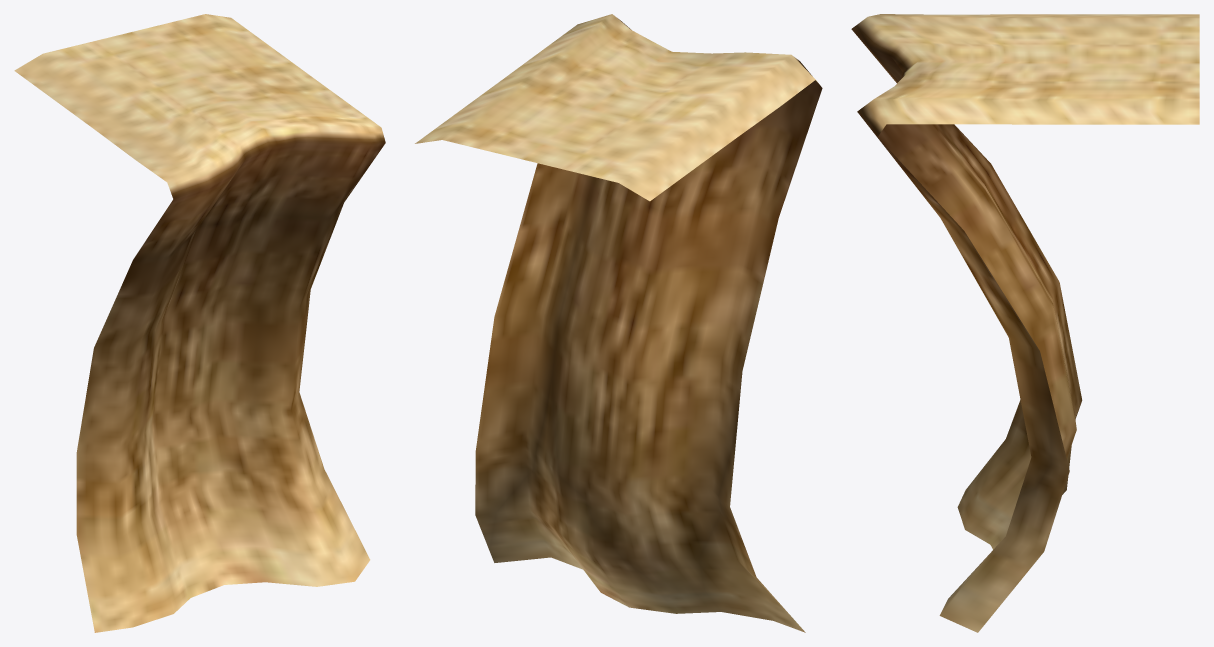
3 views of the same model, side by side, from view 1: azimuth 30°, elevation 25°; view 2: azimuth 150°, elevation 25°; view 3: azimuth 270°, elevation 25° (orthographic). The views are drawn at different scales.
Visible parts, largest first — view 1: a5; view 2: a5; view 3: a5.
Part boxes in pixels (x1,y1,x2,y2): a5: (14, 14, 385, 632); a5: (415, 14, 822, 632); a5: (851, 14, 1199, 632).
Bounding box in the file's own units: 393 × 646 × 405.
